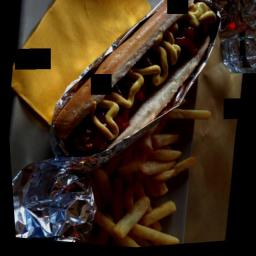hotdog: (24, 0, 236, 196)
